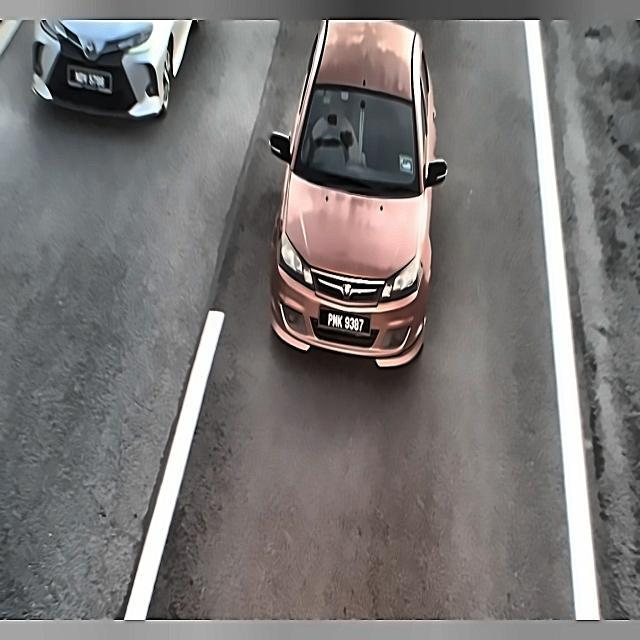car: (63, 59, 118, 104), (319, 306, 373, 342)
